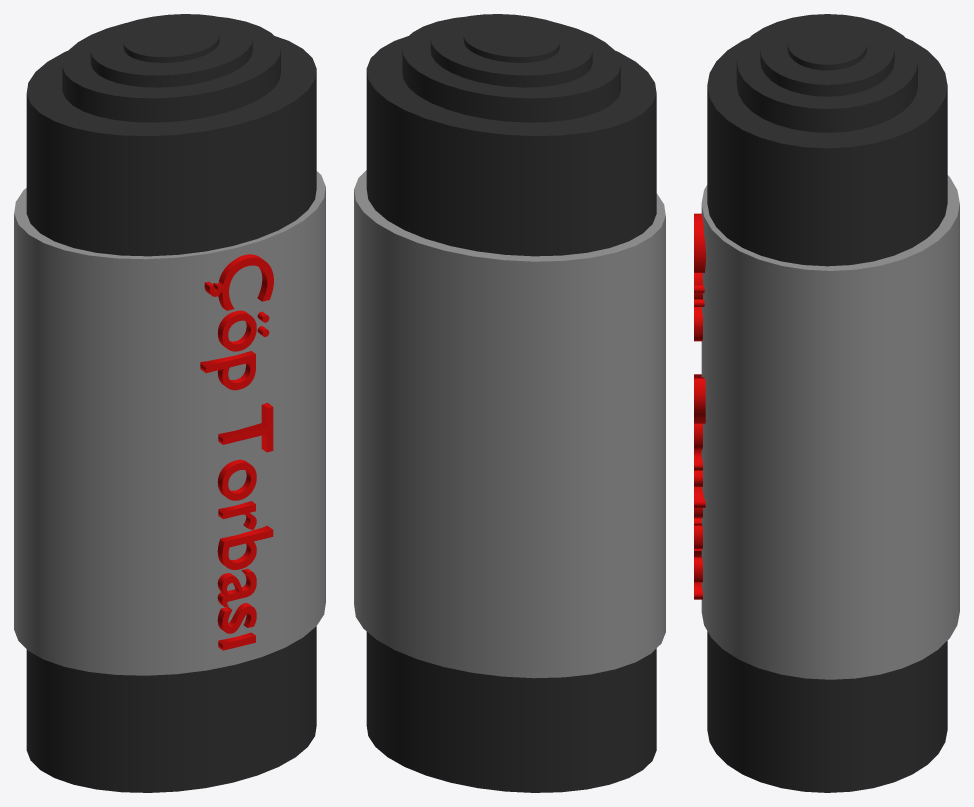
The model's file is cop_torbasi.fbx.
3 views of the same model, side by side, from view 1: azimuth 30°, elevation 25°; view 2: azimuth 150°, elevation 25°; view 3: azimuth 270°, elevation 25° (orthographic).
Parts seen in each view (by area): view 1: Cylinder.001, Cylinder, Text; view 2: Cylinder.001, Cylinder; view 3: Cylinder.001, Cylinder, Text.
Part boxes in pixels (left/top/right/bottom): Cylinder.001: left=14, top=171, right=325, bottom=675; Cylinder: left=26, top=14, right=316, bottom=792; Text: left=200, top=254, right=273, bottom=650; Cylinder.001: left=354, top=170, right=665, bottom=678; Cylinder: left=366, top=14, right=656, bottom=792; Cylinder.001: left=701, top=175, right=959, bottom=679; Cylinder: left=707, top=14, right=947, bottom=792; Text: left=694, top=213, right=705, bottom=599.
Bounding box in the file's own units: 172 × 425 × 142.
